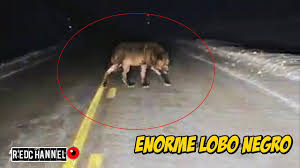Lobo: (100, 31, 193, 87)
